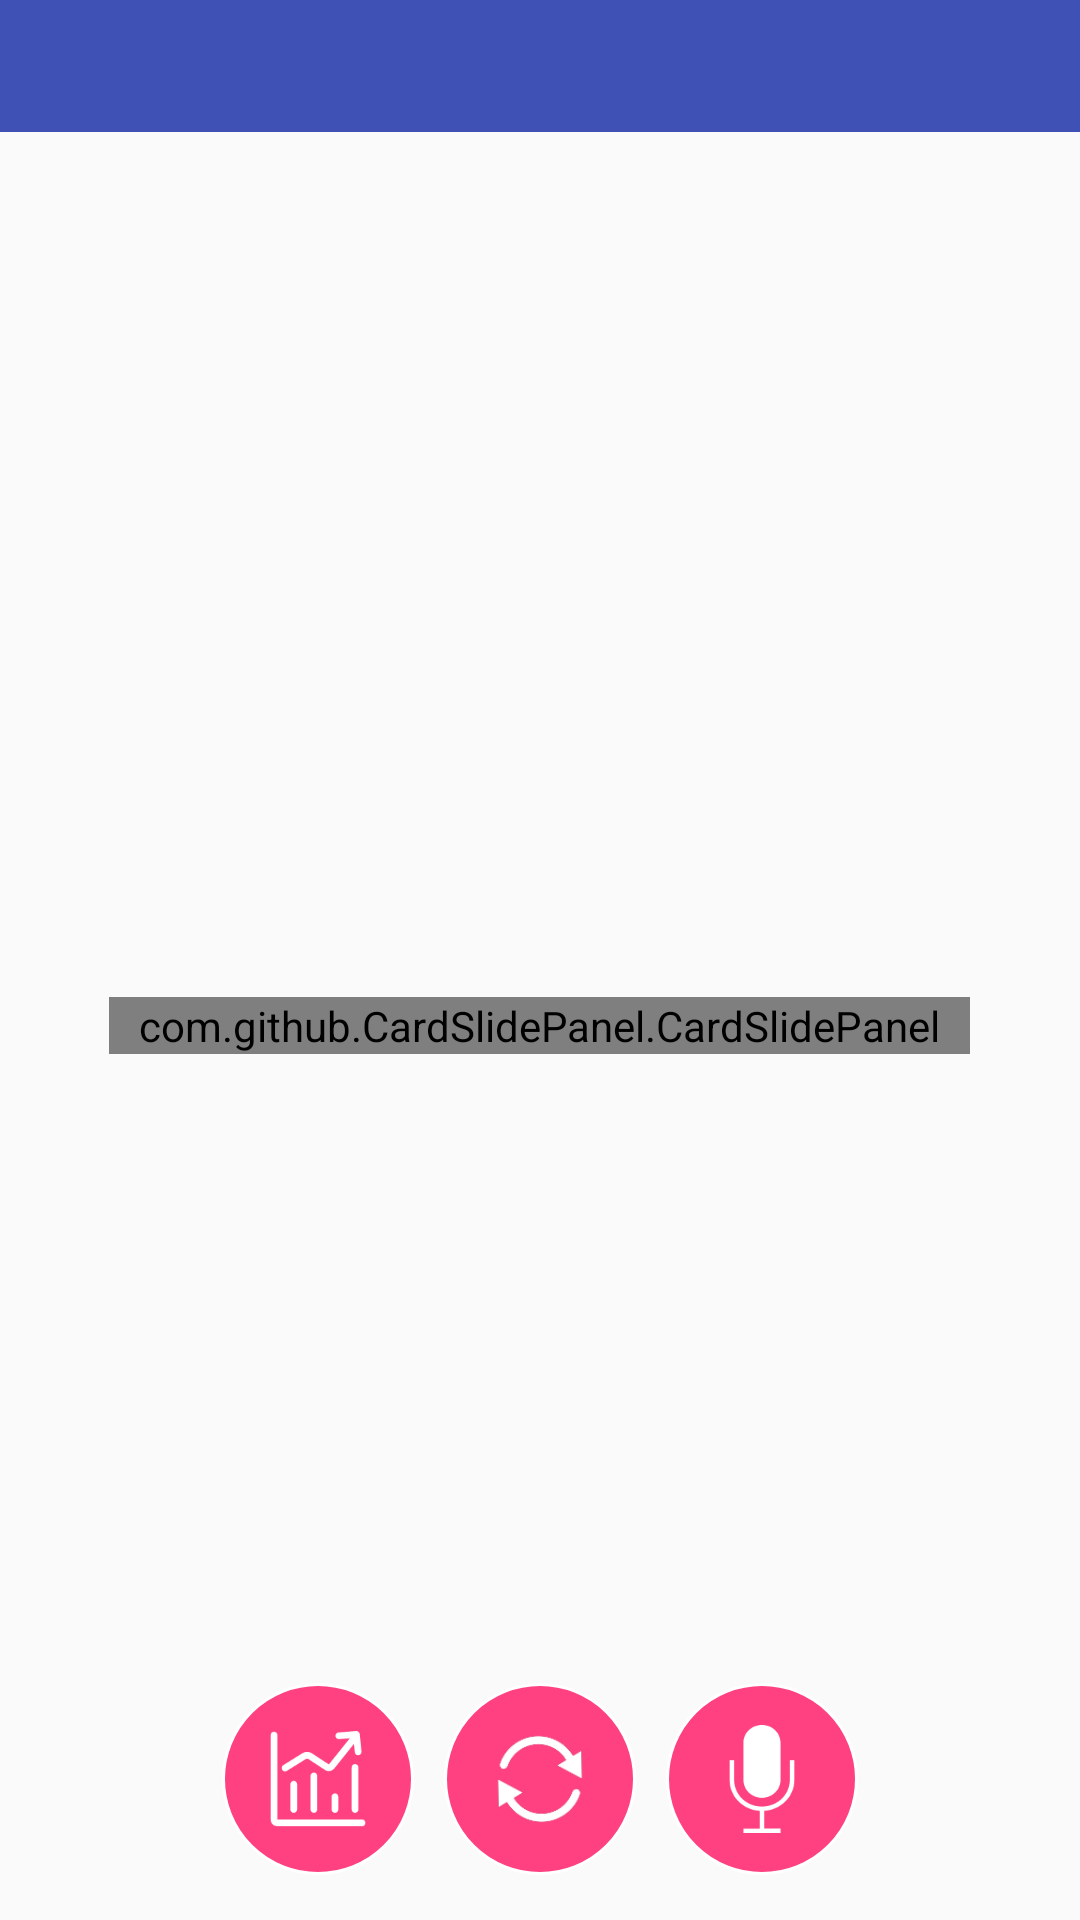

Named icons in this screenshot (1080w x 1920h) and their bounding boxes, bbox(x1, y1, x2, y2):
chart: bbox(225, 1686, 411, 1872)
refresh: bbox(447, 1686, 633, 1872)
speak: bbox(669, 1686, 855, 1872)
